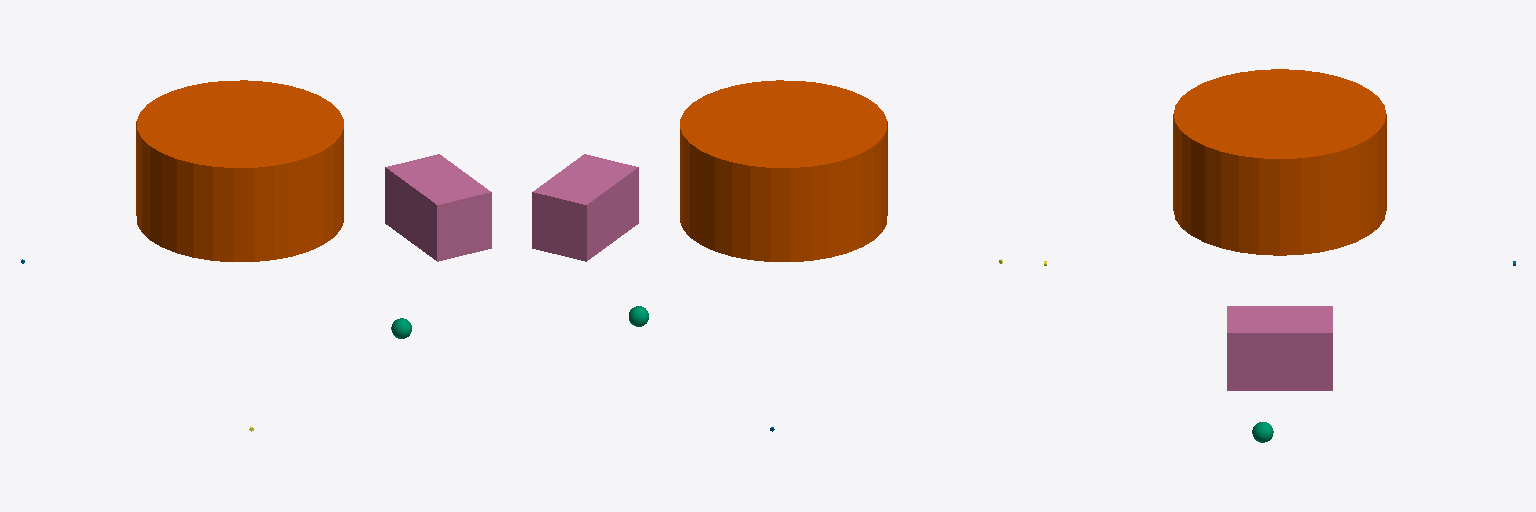
robot.urdf — 2wheels:
<?xml version="1.0"?>
<robot name="2wheels" xmlns:xacro="http://www.ros.org/wiki/xacro">
 <!-- A dummy link to avoid KDL error  -->
  <link name="dummy_base"/>
  <joint name="dummy joint" type="fixed">
    <origin rpy="0 0 0" xyz="0 0 0"/>
    <parent link="dummy_base"/>
    <child  link="base_link"/>
  </joint>

  <!-- Chassis link -->
  <link name="base_link">
    <!-- pose and inertial -->
    <pose>0 0 0 0 0 0</pose>
    <inertial>
      <mass value="6.0"/>
      <origin rpy="0 0 0" xyz="0.01 0 0.03"/>
      <inertia ixx="0.007" ixy="0" ixz="0" iyy="0.00547" iyz="0" izz="0.012023"/>
    </inertial>
    <!-- body -->
    <collision name="collision_chassis">
      <origin rpy=" 0 0 0" xyz="0.01 0 0.03"/>
      <geometry>
        <box size="0.18 0.2 0.06"/> <!-- ancho, largo, alto -->
      </geometry>
    </collision>
    <visual>
      <origin rpy="0 0 -1.5708" xyz="0.0 0 0.0"/>
      <geometry>
        <mesh filename="package://two_wheels_description/meshes/robotmodel.dae"/>
      </geometry>
      <material name="blue"/> <!-- This is only for Rviz visualization -->
    </visual>
  </link>

  <!-- caster joint -->
  <joint name="joint_caster" type="continuous">
    <origin rpy="0 0 0" xyz="0.085 -0.008 -0.015"/>
    <!--origin rpy="0 0 0" xyz="0.008 0.085 -0.015"/-->
    <child link="caster_wheel"/>
    <parent link="base_link"/>
    <axis rpy="0 0 0" xyz="0 0 1"/>
    <limit effort="1000" velocity="10"/>
    <joint_properties damping="0.0" friction="0.01"/>
  </joint>


  <!-- caster front link -->
  <link name="caster_wheel">
    <inertial>
      <mass value="0.05"/>
      <origin rpy="0 0 0" xyz="0 0 0"/>
      <inertia ixx="0.000001" ixy="0" ixz="0" iyy="0.000001" iyz="0" izz="0.000001"/>
    </inertial>
    <collision name="caster_front_collision">
      <origin rpy=" 0 0 0" xyz="0.0 0 0"/>
      <geometry>
        <sphere radius="0.0051"/>
      </geometry>
      <surface>
        <friction>
          <ode>
            <mu>0.0</mu>
            <mu2>0.0</mu2>
            <slip1>0.0</slip1>
            <slip2>0.0</slip2>
          </ode>
        </friction>
      </surface>
    </collision>
    <visual name="caster_front_visual">
      <origin rpy=" 0 0 0" xyz="0.0 0 0"/>
      <geometry>
        <sphere radius="0.005"/>
      </geometry>
    </visual>
  </link>
  <gazebo reference="caster_wheel">
    <mu1 value="0.0"/>
    <mu2 value="0.0"/>
    <kp value="10000000.0"/>
    <kd value="1.0"/>
    <fdir1 value="0 0 0"/>
    <material>Gazebo/Black</material>
    <turnGravityOff>false</turnGravityOff>
  </gazebo>








  <!-- XXXXXXXXXXX -->
  <!-- Right wheel -->
  <!-- XXXXXXXXXXX -->
  <!-- Joint between right wheel and chassis -->
  <joint name="joint_right_wheel" type="continuous">
    <origin rpy="-1.57079632 0  0" xyz="-0.0572 -0.11 0.006"/>
    <!--origin rpy="0 1.570 0" xyz="0.11 -0.057 0.012"/-->
    <child link="link_right_wheel"/>
    <parent link="base_link"/>
    <axis rpy="0 0 0" xyz="0 0 1"/>
    <limit effort="1000" velocity="100"/>
    <joint_properties damping="0.01" friction="0.01"/>
  </joint>
  <!-- right link -->
  <link name="link_right_wheel">
    <inertial>
      <mass value="0.1"/>
      <origin rpy="0 0 0" xyz="0 0 0"/>
      <inertia ixx="0.000016458" ixy="0" ixz="0" iyy="0.000016458" iyz="0" izz="0.000016458"/>
    </inertial>
     <surface>
        <friction>
          <ode>
            <mu>0.03</mu>
            <mu2>0.03</mu2>
          </ode>
        </friction>
      </surface>
    <collision name="link_right_wheel_collision">
      <origin rpy="0 0 0" xyz="0 0 0"/>
      <geometry>
        <cylinder length="0.01" radius="0.025"/>
      </geometry>
    </collision>
    <visual name="link_right_wheel_visual">
      <origin rpy="0 0 0" xyz="0 0 0"/>
      <geometry>
        <cylinder length="0.001" radius="0.001"/>
      </geometry>
    </visual>
  </link>


  <!-- XXXXXXXXXXX -->
  <!-- LEFT wheel -->
  <!-- XXXXXXXXXXX -->
   <!-- Joint between LEFT wheel and chassis -->
  <joint name="joint_left_wheel" type="continuous">
        <!-- Previous  xyz="-0.095 -0.055 0.01 -->
        <origin rpy="1.57079632 0  0" xyz="-0.0572 0.11  0.006"/>
        <!--origin rpy="0 -1.570 0" xyz="-0.11 -0.057 0.012"/--> <!-- PAY ATTENTION NEGATIVE 'y' -->
        <child link="link_left_wheel"/>
        <parent link="base_link"/>
        <axis rpy="0 0 0" xyz="0 0 -1"/>
        <limit effort="1000" velocity="100"/>
        <joint_properties damping="0.01" friction="0.01"/>
  </joint>
  <!-- left link -->
  <link name="link_left_wheel">
        <inertial>
          <mass value="0.1"/>
          <origin rpy="0 0 0" xyz="0 0 0"/>
          <inertia ixx="0.000016458" ixy="0" ixz="0" iyy="0.000016458" iyz="0" izz="0.000016458"/>
        </inertial>
         <surface>
        <friction>
          <ode>
            <mu>0.03</mu>
            <mu2>0.03</mu2>
          </ode>
        </friction>
      </surface>
        <collision name="link_left_wheel_collision">
          <origin rpy="0 0 0" xyz="0 0 0"/>
          <geometry>
            <cylinder length="0.01" radius="0.025"/>
          </geometry>
        </collision>
        <visual name="link_left_wheel_visual">
          <origin rpy="0 0 0" xyz="0 0 0"/>
          <geometry>
            <cylinder length="0.001" radius="0.001"/>
          </geometry>
        </visual>
  </link>





  <!-- laser link -->
  <link name="base_laser_link">
    <inertial>
      <origin xyz="0 0 0" rpy="0 0 0" />
      <mass value="0.25" />
      <inertia ixx="0.000208333" ixy="0" ixz="0" iyy="0.000208333" iyz="0" izz="0.0003125"/>
    </inertial>

    <visual>
      <origin xyz="0 0 0" rpy="0 0 0" />
      <geometry>
        <cylinder radius="0.05" length="0.05"/>
      </geometry>
      <material name="white" />
    </visual>

    <collision>
      <origin xyz="0 0 0" rpy="0 0 0"/>
      <geometry>
        <cylinder radius="0.05" length="0.05"/>
      </geometry>
    </collision>
  </link>
  <gazebo reference="base_laser_link"> <!--Color for the link -->
      <material>Gazebo/Black</material>
  </gazebo>

  <!-- joint to attach the laser to the chassis -->
  <joint name="joint_base_laser_link" type="fixed">
    <origin xyz="0.0 0 0.085" rpy="0 0.0 0"/>
    <parent link="base_link"/>
    <child link="base_laser_link"/>
  </joint>

  <!-- Plugin for the wheels -->
  <gazebo>
    <plugin filename="libgazebo_ros_diff_drive.so" name="differential_drive_controller">
      <legacyMode>true</legacyMode>
      <alwaysOn>true</alwaysOn>
      <updateRate>100</updateRate>
      <leftJoint>joint_left_wheel</leftJoint>
      <rightJoint>joint_right_wheel</rightJoint>
      <wheelSeparation>0.22</wheelSeparation>
      <wheelDiameter>0.025</wheelDiameter>
      <torque>4000</torque>
      <commandTopic>cmd_vel</commandTopic>
      <odometryTopic>odom</odometryTopic>
      <odometryFrame>odom</odometryFrame>
      <robotBaseFrame>base_link_simulated</robotBaseFrame>
    </plugin>
  </gazebo>

    <!-- plugin for the laser -->
   <gazebo reference="base_laser_link">
    <sensor type="ray" name="head_rplidar">
      <pose>0 0 0 0 0 0</pose>
      <visualize>false</visualize>
      <update_rate>10</update_rate><!--10 hz as the RP lidar-->
      <ray>
        <scan>
          <horizontal>
            <samples>1440</samples>
            <resolution>1</resolution>
            <min_angle>-3.141596</min_angle>
            <max_angle>3.141596</max_angle>
          </horizontal>
        </scan>
        <range>
          <min>0.15</min>
          <max>8.0</max>
          <resolution>0.01</resolution>
        </range>
        <noise>
          <type>gaussian</type>
          <mean>0.0</mean>
          <stddev>0.01</stddev>
        </noise>
      </ray>
      <plugin name="gazebo_ros_head_hokuyo_controller" filename="libgazebo_ros_laser.so">
        <topicName>/base_scan</topicName>
        <frameName>base_laser_link</frameName>
      </plugin>
    </sensor>
  </gazebo>





  <!-- XXXXXXXXXXXXXXXXXXXXXXXXXXXXXX
  Simulation of a camera:
  XXXXXXXXXXXXXXXXXXXXXXXXXXXXX-->
  <joint name="camera1_joint"  type="revolute">
        <axis xyz="0 1 0"/>
        <limit effort="100000.0" lower="-0.8" upper="0.3" velocity="0.2"/>
         <origin xyz="0.11 0.0 0.04" rpy="0 0 0"/>
        <parent link="base_link"/>
         <child link="camera1_link"/>
    </joint>
 <!-- Camera -->
  <link name="camera1_link">
    <collision>
      <origin xyz="0 0 0" rpy="0 0 0"/>
      <geometry>
    <box size="0.03 0.05 0.03"/>
      </geometry>
    </collision>

    <visual>
      <origin xyz="0 0 0" rpy="0 0 0"/>
      <geometry>
        <box size="0.03 0.05 0.03"/>
      </geometry>
    </visual>
    <inertial>
      <mass value="0.04" />
      <origin xyz="0 0 0" rpy="0 0 0"/>
      <inertia ixx="0.000001" ixy="0" ixz="0" iyy="0.000001" iyz="0" izz="0.000001" />
    </inertial>
  </link>
  <gazebo reference="camera1_link"> <!--Color for the camera1_link -->
      <material>Gazebo/Black</material>
  </gazebo>

  <!-- Transmission camera -->
  <transmission name="camera1_tran">
    <type>transmission_interface/SimpleTransmission</type>
    <joint name="camera1_joint">
      <hardwareInterface>hardware_interface/EffortJointInterface</hardwareInterface>
    </joint>
    <actuator name="motor_camera1">
      <hardwareInterface>hardware_interface/EffortJointInterface</hardwareInterface>
      <mechanicalReduction>1</mechanicalReduction>
    </actuator>
  </transmission>
  <!-- Plugin for the camera -->
   <gazebo reference="camera1_link">
    <sensor type="camera" name="camera1">
      <update_rate>30.0</update_rate>
      <camera name="camera1">
        <horizontal_fov>1</horizontal_fov>
        <image>
          <width>640</width>
          <height>480</height>
          <format>R8G8B8</format>
        </image>
        <clip>
          <near>0.02</near>
          <far>300</far>
        </clip>
        <noise>
          <type>gaussian</type>
          <!-- Noise is sampled independently per pixel on each frame.
               That pixel's noise value is added to each of its color
               channels, which at that point lie in the range [0,1]. -->
          <mean>0.0</mean>
          <stddev>0.007</stddev>
        </noise>
      </camera>
      <plugin name="camera1_controller" filename="libgazebo_ros_camera.so">
        <alwaysOn>true</alwaysOn>
        <updateRate>0.0</updateRate>
        <cameraName>two_wheels_robot/camera1</cameraName>
        <imageTopicName>image_raw</imageTopicName>
        <cameraInfoTopicName>camera_info</cameraInfoTopicName>
        <frameName>camera_link</frameName>
        <hackBaseline>0.07</hackBaseline>
        <distortionK1>0.0</distortionK1>
        <distortionK2>0.0</distortionK2>
        <distortionK3>0.0</distortionK3>
        <distortionT1>0.0</distortionT1>
        <distortionT2>0.0</distortionT2>
      </plugin>
    </sensor>
  </gazebo>

<!-- ros_control Gazebo plugin -->
  <gazebo>
    <plugin name="gazebo_ros_control" filename="libgazebo_ros_control.so">
      <robotNamespace>/two_wheels_robot</robotNamespace>
      <robotSimType>gazebo_ros_control/DefaultRobotHWSim</robotSimType>
      <legacyModeNS>true</legacyModeNS>
    </plugin>
  </gazebo>


</robot>

--- What the picture shows (computed from the rendered views, not written in the file) ---
3 views of the same robot in one strip: view 1: azimuth 30°, elevation 25°; view 2: azimuth 150°, elevation 25°; view 3: azimuth 270°, elevation 25° (orthographic).
Model 2wheels with 7 links and 6 joints (1 revolute, 3 continuous, 2 fixed), rooted at dummy_base, posed all joints at 0.
Links seen in each view (by area): view 1: base_laser_link, camera1_link; view 2: base_laser_link, camera1_link; view 3: base_laser_link, camera1_link.
Boxes of the visible links, <box> form: base_laser_link: <box>136,80,343,261</box>; camera1_link: <box>385,154,491,261</box>; base_laser_link: <box>680,80,887,261</box>; camera1_link: <box>532,154,638,261</box>; base_laser_link: <box>1173,69,1386,255</box>; camera1_link: <box>1227,306,1332,390</box>.
Bounding box of the posed robot: 0.1832 × 0.221 × 0.13 m (x, y, z).
Meshes: 1 distinct files referenced, 0 mesh visuals loaded (none loaded); not drawn: 1 (file found but could not be loaded).
